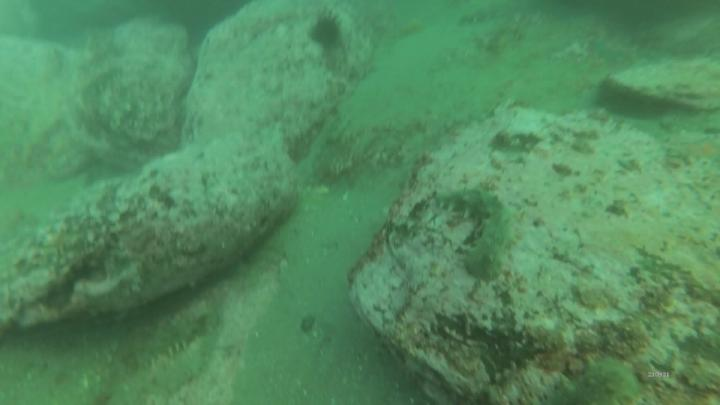echinus: (437, 190, 514, 286)
starfish: (307, 10, 346, 49)
